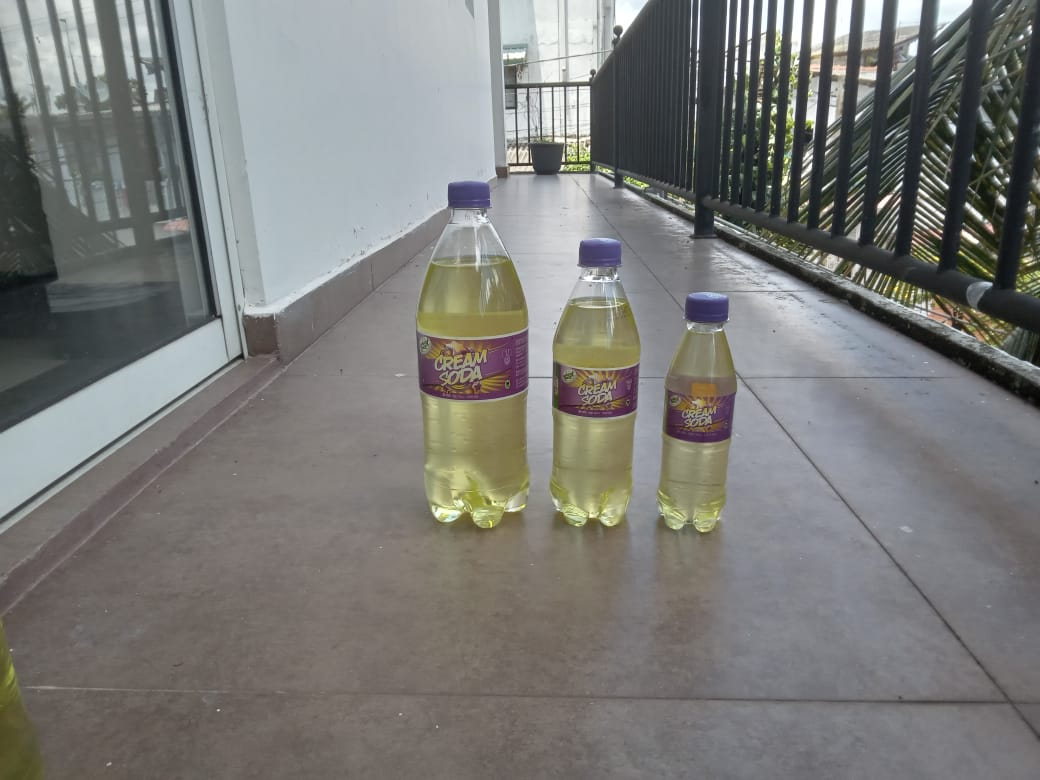M: (413, 183, 532, 525)
S: (548, 240, 643, 529)
Xs: (659, 287, 741, 532)
